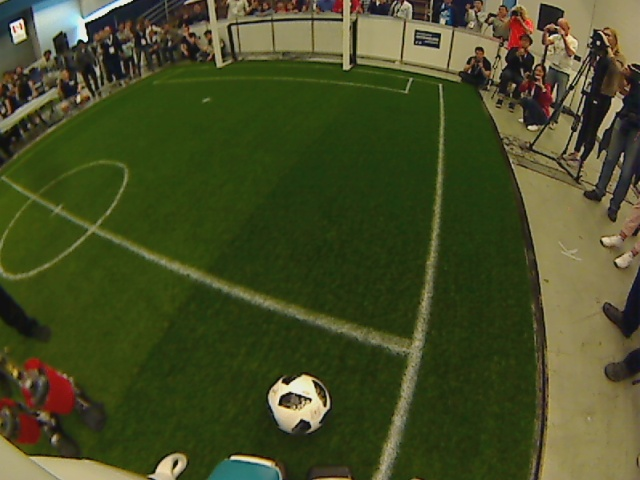ball: (266, 372, 333, 439)
goalpost: (205, 53, 231, 79), (335, 51, 357, 75)
robot: (34, 393, 109, 462)
